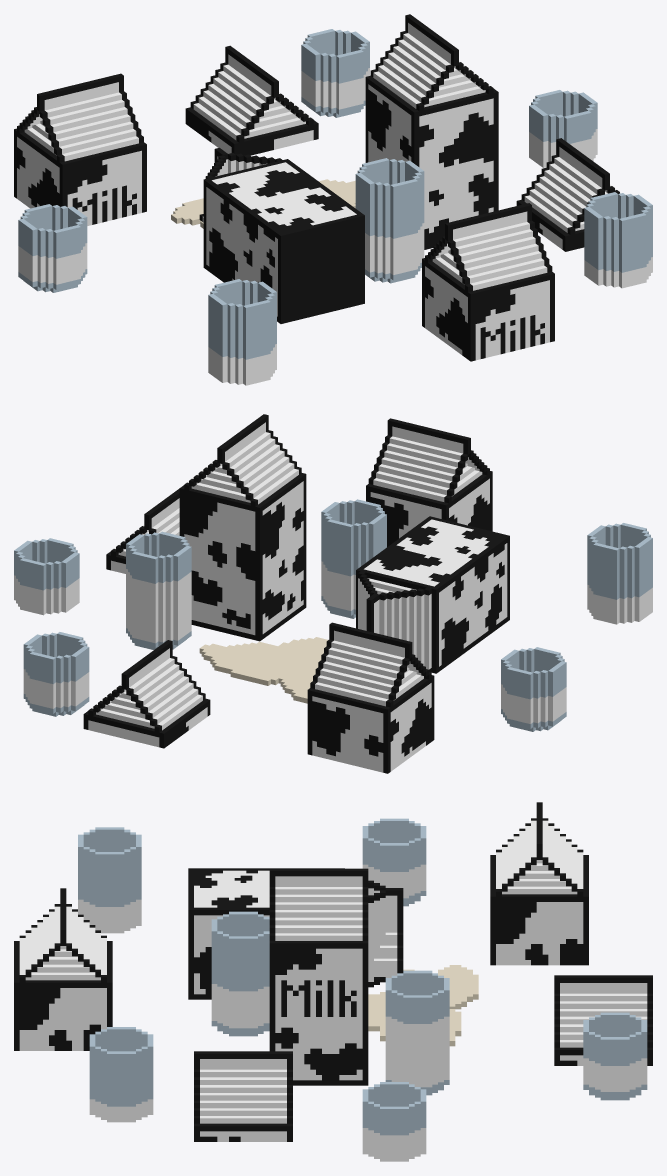
The model's file is milk_inner.obj.
3 renders of one model, top to bottom at view 1: azimuth 30°, elevation 25°; view 2: azimuth 150°, elevation 25°; view 3: azimuth 270°, elevation 25°, orthographic. The views are drawn at different scales.
Parts seen in each view (by area): view 1: milk; view 2: milk; view 3: milk.
Part boxes in pixels (<box>): milk: <box>14,14,652,385</box>; milk: <box>14,414,652,773</box>; milk: <box>14,802,652,1161</box>.
Bounding box in the file's own units: 114 × 37 × 110.
